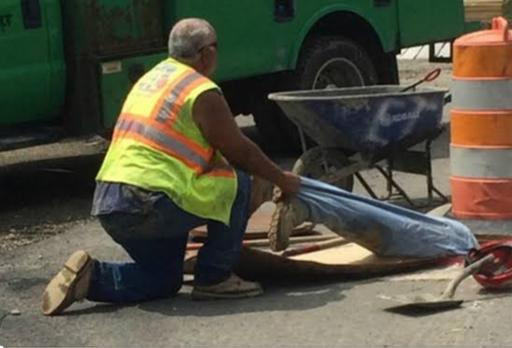safe person: (95, 19, 256, 289)
